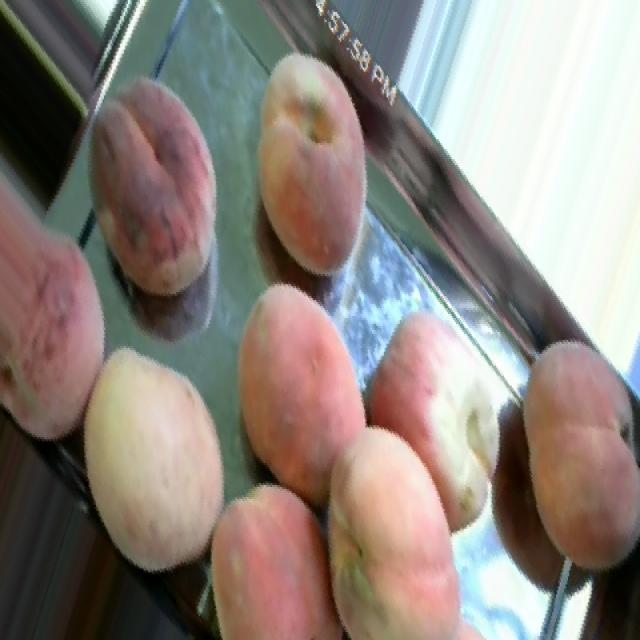Fruit: (40, 316, 260, 600), (281, 393, 517, 640), (55, 50, 244, 320), (1, 139, 146, 467), (231, 38, 400, 296), (486, 314, 640, 594), (209, 272, 379, 525), (360, 296, 509, 563), (177, 461, 363, 640)
